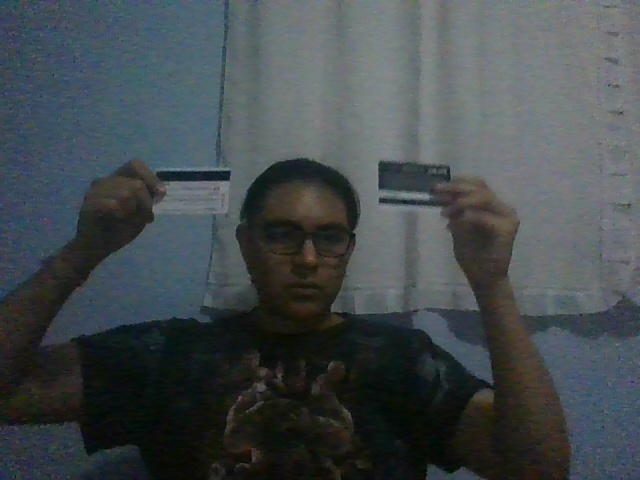tarjeta: (150, 167, 231, 215), (377, 160, 451, 211)
